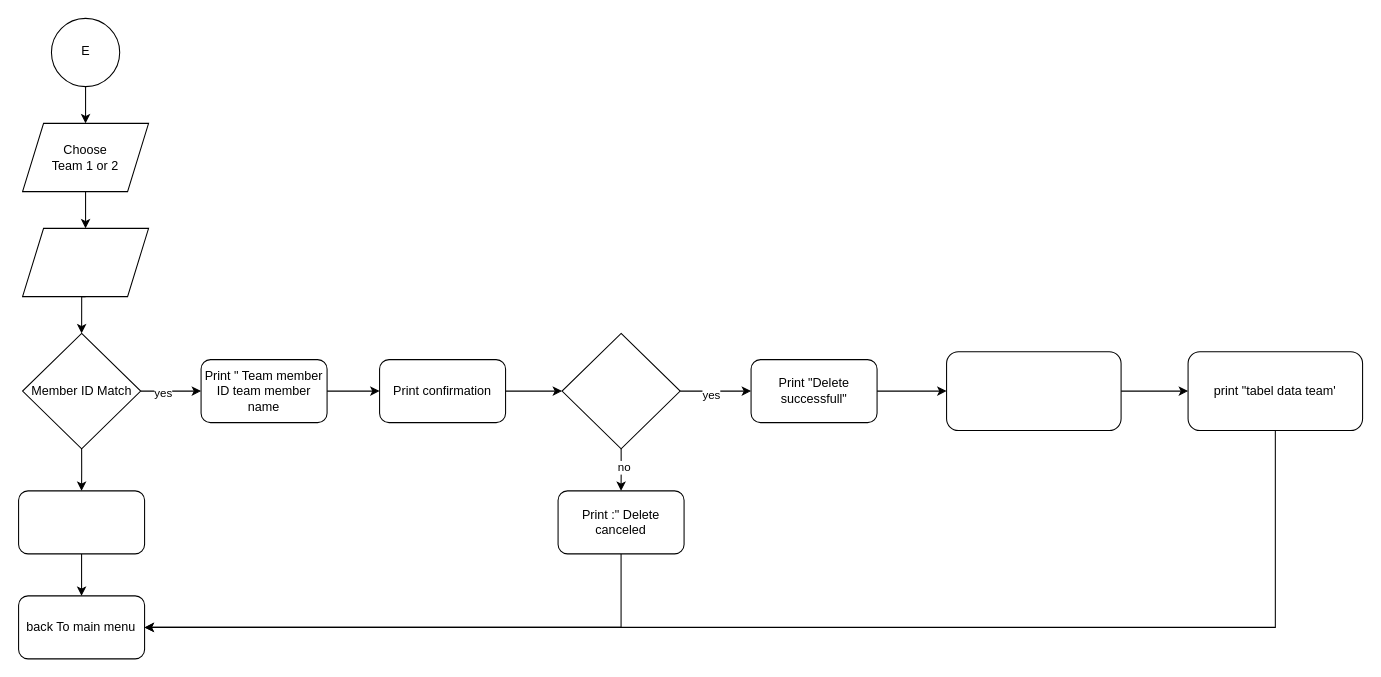
The diagram is 1381 pixels wide and 677 high, and some of its shapes have lost their labels. The shapes that lost their labels are listed below. From the top down, each one's centre as x and y in pixels, then its label:
pixel 85 262: Input member ID
pixel 620 390: user confirm yes
pixel 1033 390: update Member task list , team workload, team capacity, team remaining capacity
pixel 81 522: Print " Member not found"
